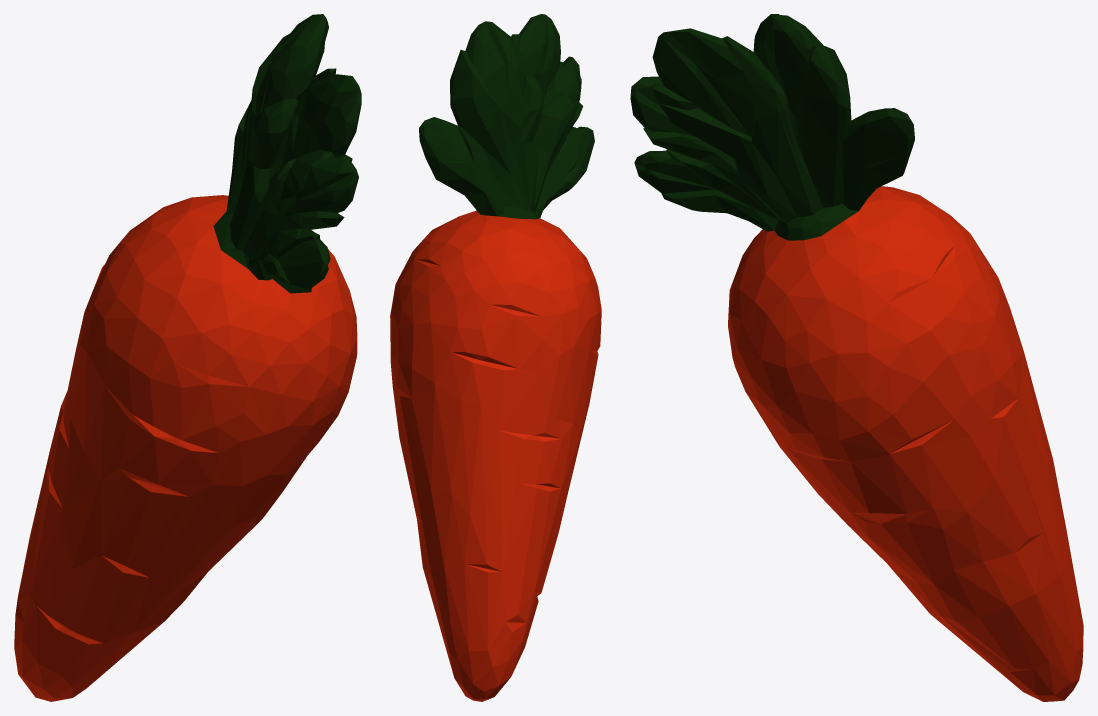
File: Carrot_lowpoly.obj
3 views of the same model, side by side, from view 1: azimuth 30°, elevation 25°; view 2: azimuth 150°, elevation 25°; view 3: azimuth 270°, elevation 25° (orthographic). The views are drawn at different scales.
Visible parts, largest first — view 1: Mesh1.0; view 2: Mesh1.0; view 3: Mesh1.0.
Boxes of the visible parts, x1,y1,x2,y2 form: Mesh1.0: (14,14,361,701); Mesh1.0: (390,14,601,701); Mesh1.0: (630,14,1083,701).
Size of the model in its own units: 0.5395 by 1.6 by 0.8802.
